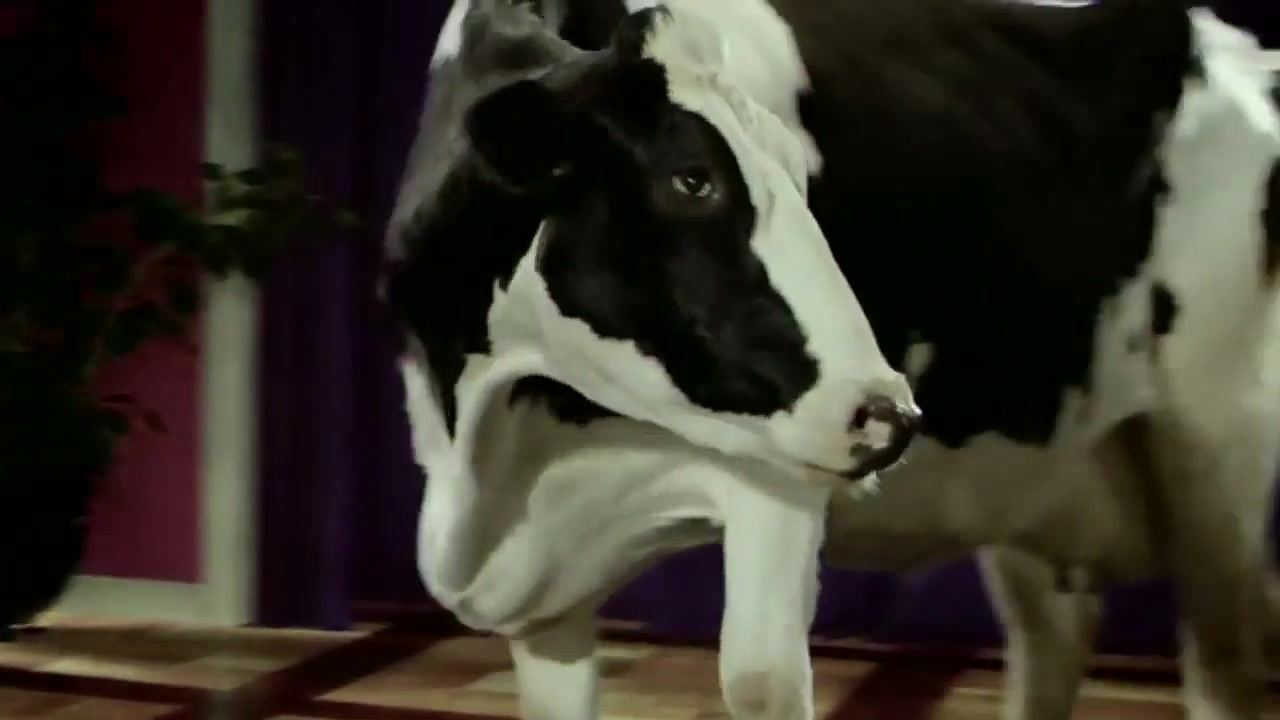cow: (372, 2, 1280, 720)
